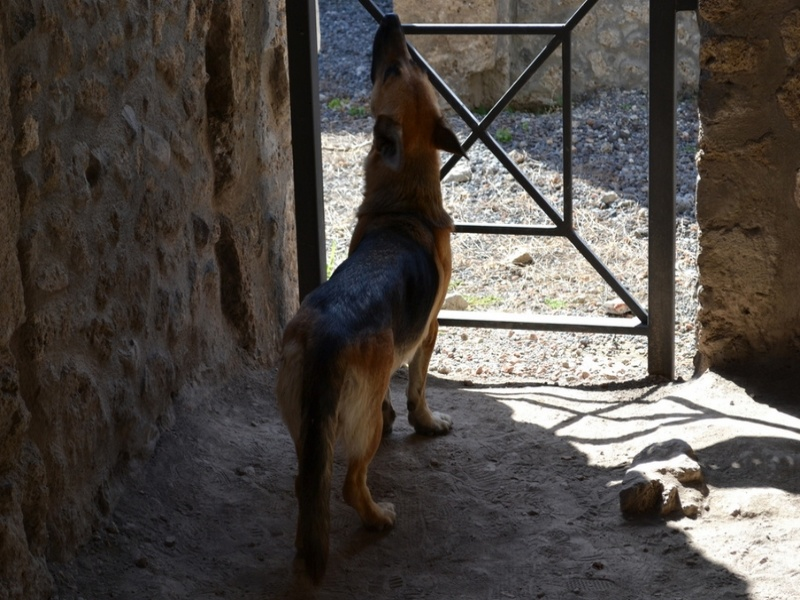dog: (276, 13, 468, 581)
